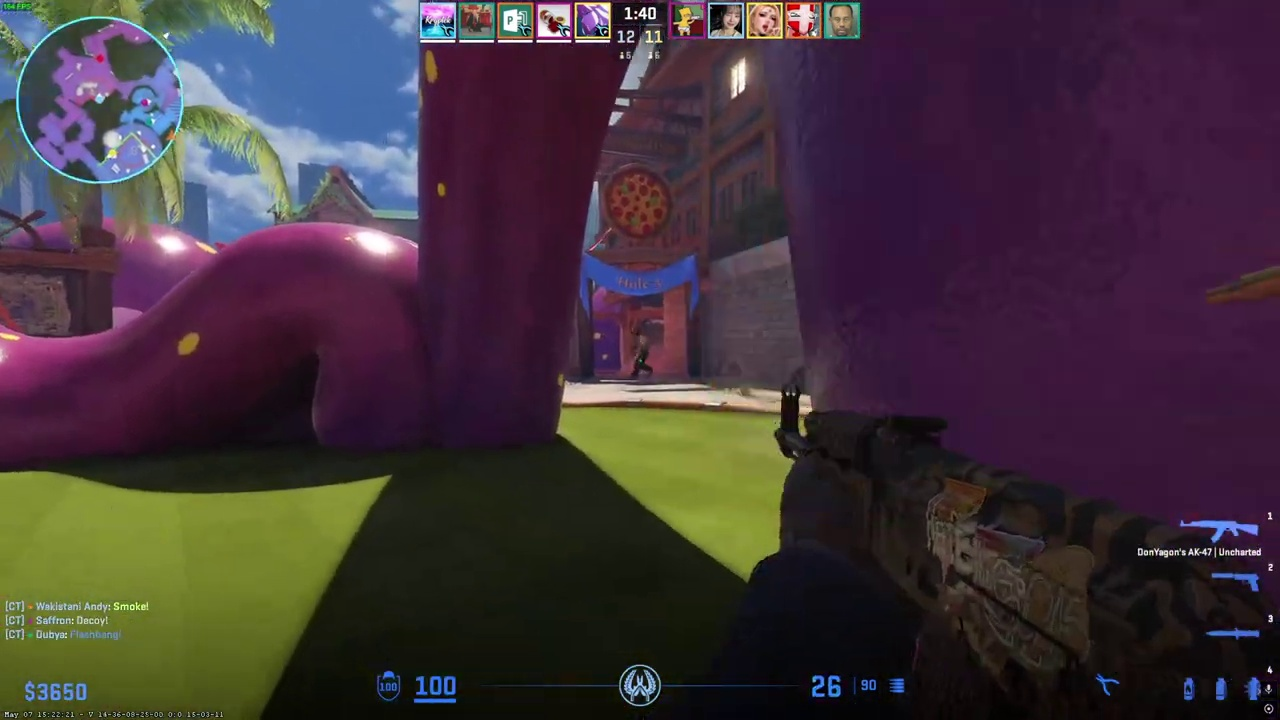Terrorist: (630, 330, 654, 379)
